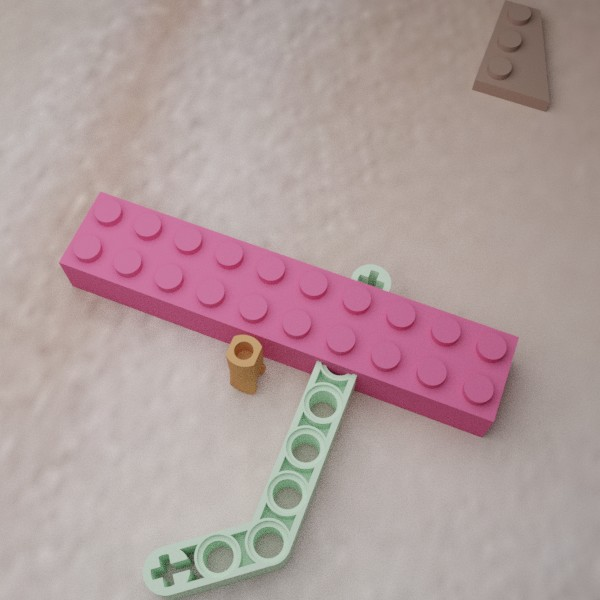lego: (58, 191, 519, 437), (142, 264, 391, 599), (471, 0, 549, 111), (225, 334, 266, 394)
